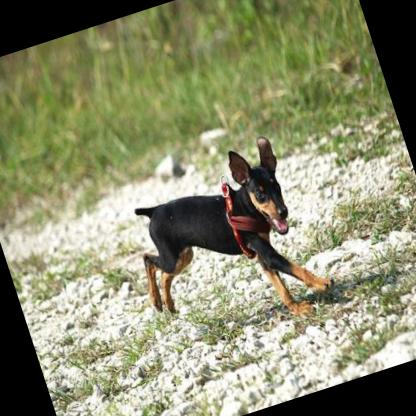miniature_pinscher: (110, 127, 340, 362)
